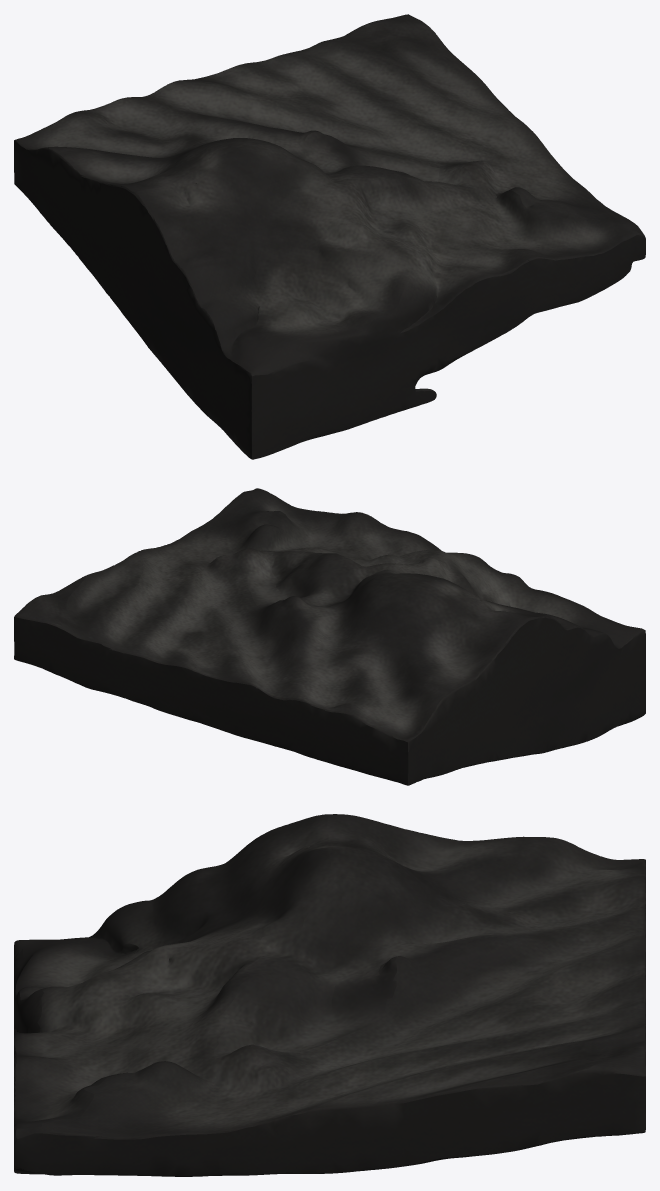
The picture shows the model from 3 angles, top to bottom: view 1: azimuth 30°, elevation 25°; view 2: azimuth 150°, elevation 25°; view 3: azimuth 270°, elevation 25°; orthographic projection. The views are drawn at different scales.
Visible parts, largest first — view 1: world; view 2: world; view 3: world.
Boxes of the visible parts, <box> form: world: <box>14,14,645,459</box>; world: <box>14,488,645,785</box>; world: <box>14,814,645,1176</box>.
Bounding box in the file's own units: 5000 × 2414 × 5218.
1 material, 1 textured.
